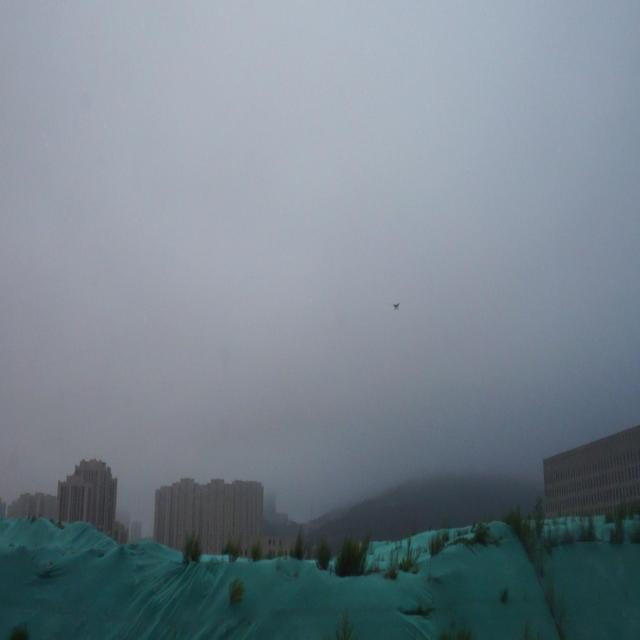drone: (392, 299, 400, 311)
